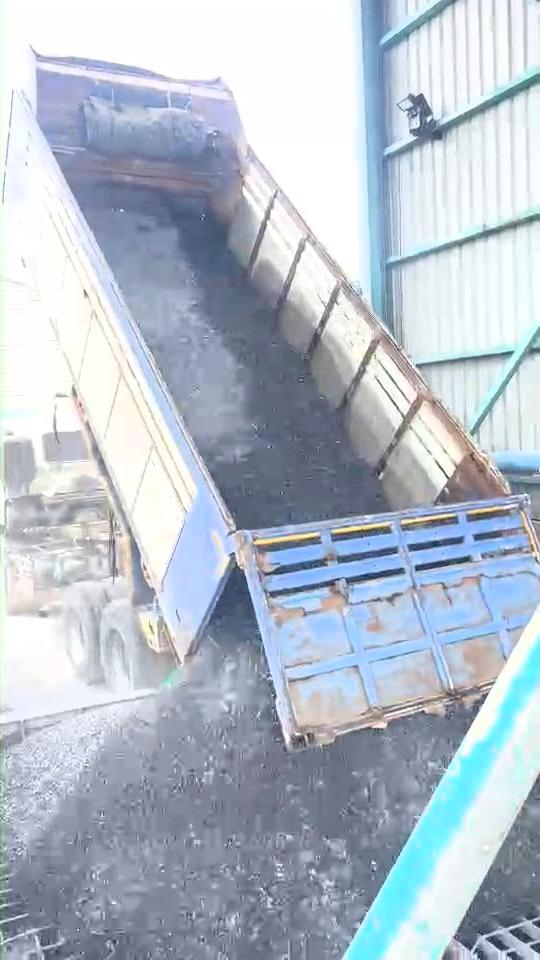gravel: (5, 577, 471, 959), (80, 188, 387, 527), (463, 790, 540, 936)
